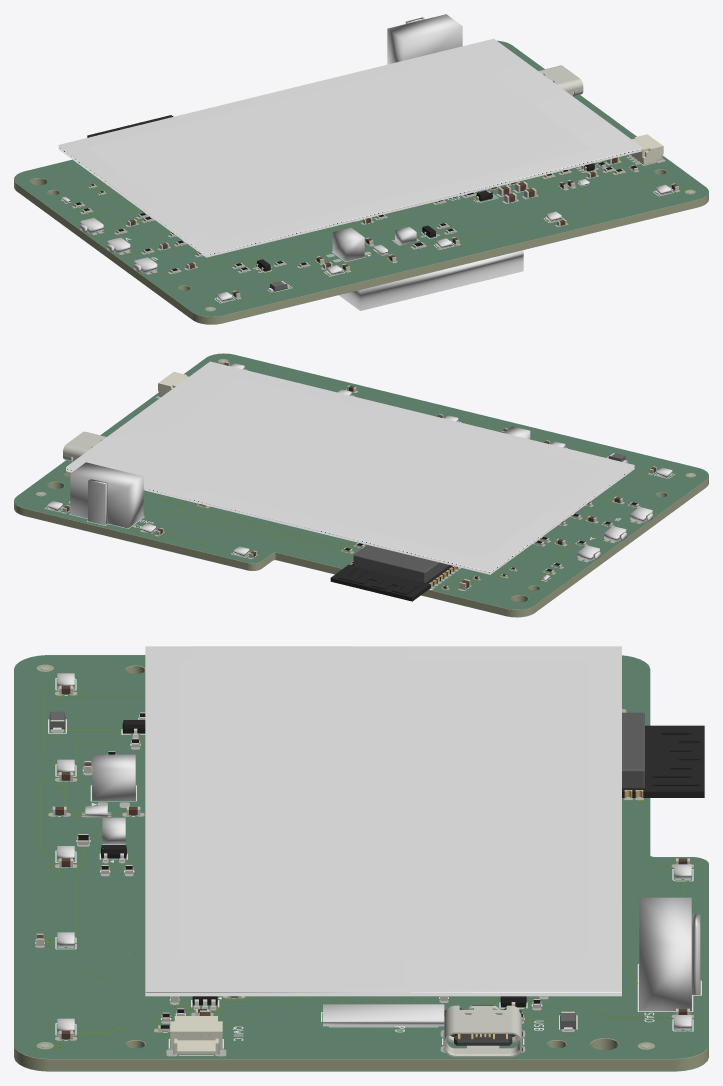
Rendered from board.glb.
3 renders of one model, top to bottom at view 1: azimuth 30°, elevation 25°; view 2: azimuth 150°, elevation 25°; view 3: azimuth 270°, elevation 25°, orthographic. The views are drawn at different scales.
Visible parts, largest first — view 1: =>[0:1:1:57], =>[0:1:1:81], =>[0:1:1:79], =>[0:1:1:71], =>[0:1:1:5], =>[0:1:1:75], =>[0:1:1:43], =>[0:1:1:63], =>[0:1:1:49], =>[0:1:1:80]; view 2: =>[0:1:1:57], =>[0:1:1:81], =>[0:1:1:79], =>[0:1:1:25], =>[0:1:1:5], =>[0:1:1:63], =>[0:1:1:75], =>[0:1:1:80]; view 3: =>[0:1:1:57], =>[0:1:1:81], =>[0:1:1:79], =>[0:1:1:5], =>[0:1:1:25], =>[0:1:1:63], =>[0:1:1:59], =>[0:1:1:43], =>[0:1:1:49], =>[0:1:1:77], =>[0:1:1:75], =>[0:1:1:74] (+1 smaller).
Part boxes in pixels (x1,y1,x2,y2): =>[0:1:1:57]: [58, 38, 641, 257]; =>[0:1:1:81]: [14, 41, 708, 324]; =>[0:1:1:79]: [14, 40, 708, 316]; =>[0:1:1:71]: [339, 250, 523, 310]; =>[0:1:1:5]: [387, 14, 462, 64]; =>[0:1:1:75]: [61, 156, 692, 310]; =>[0:1:1:43]: [332, 228, 364, 261]; =>[0:1:1:63]: [538, 65, 583, 96]; =>[0:1:1:49]: [628, 134, 663, 164]; =>[0:1:1:80]: [14, 188, 708, 324]; =>[0:1:1:57]: [66, 361, 634, 574]; =>[0:1:1:81]: [14, 354, 708, 617]; =>[0:1:1:79]: [14, 353, 708, 609]; =>[0:1:1:25]: [330, 545, 457, 601]; =>[0:1:1:5]: [70, 462, 143, 528]; =>[0:1:1:63]: [63, 431, 106, 461]; =>[0:1:1:75]: [38, 360, 693, 591]; =>[0:1:1:80]: [14, 486, 707, 617]; =>[0:1:1:57]: [145, 646, 621, 996]; =>[0:1:1:81]: [14, 656, 708, 1071]; =>[0:1:1:79]: [14, 655, 708, 1058]; =>[0:1:1:5]: [639, 897, 700, 1011]; =>[0:1:1:25]: [622, 712, 704, 797]; =>[0:1:1:63]: [444, 1005, 521, 1057]; =>[0:1:1:59]: [323, 1004, 444, 1026]; =>[0:1:1:43]: [92, 754, 135, 800]; =>[0:1:1:49]: [170, 1016, 222, 1054]; =>[0:1:1:77]: [35, 678, 701, 1055]; =>[0:1:1:75]: [36, 666, 693, 1056]; =>[0:1:1:74]: [30, 687, 699, 1048].
Size of the model in its own units: 0.11 by 0.0172 by 0.08.
